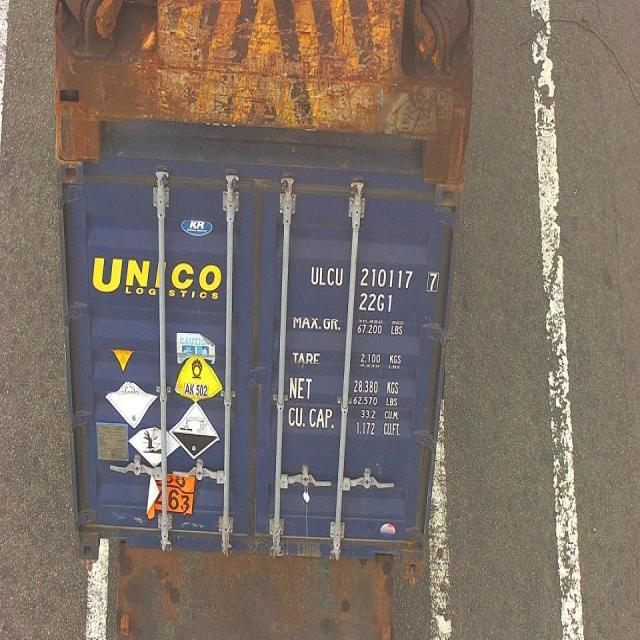ISO: (357, 290, 392, 310)
container_number: (308, 264, 439, 292)
